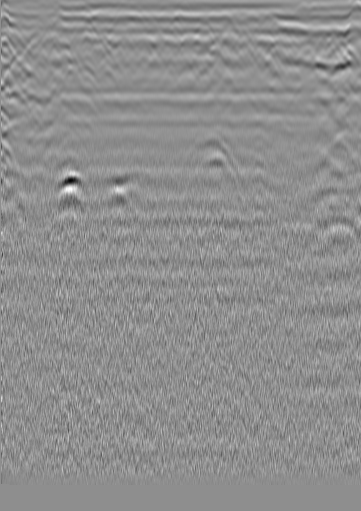가스: (97, 175, 142, 210)
상수: (307, 70, 327, 90)
우수: (173, 44, 193, 64)
